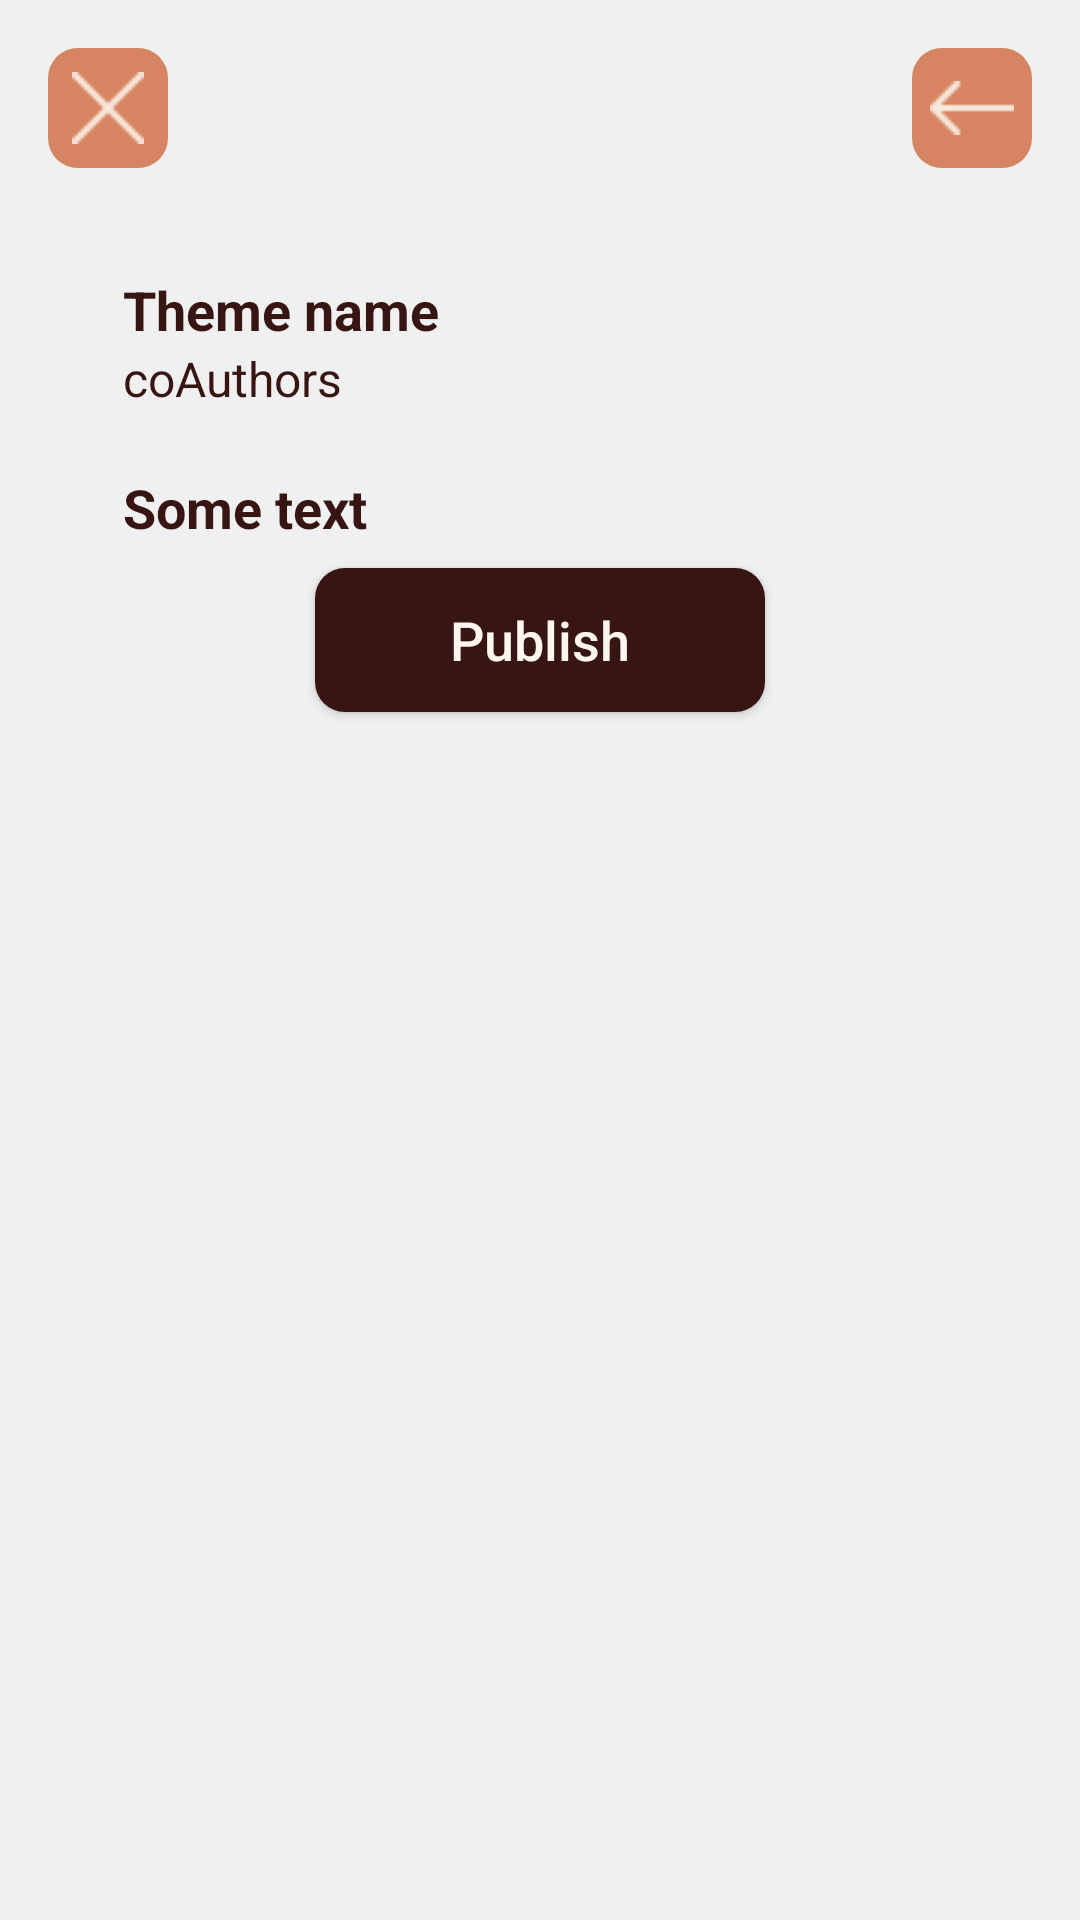

Point at icon controls on the screen. Image size 1080x1920, points as (x=x, y=y).
close: (x=108, y=108)
left arrow: (x=972, y=108)
